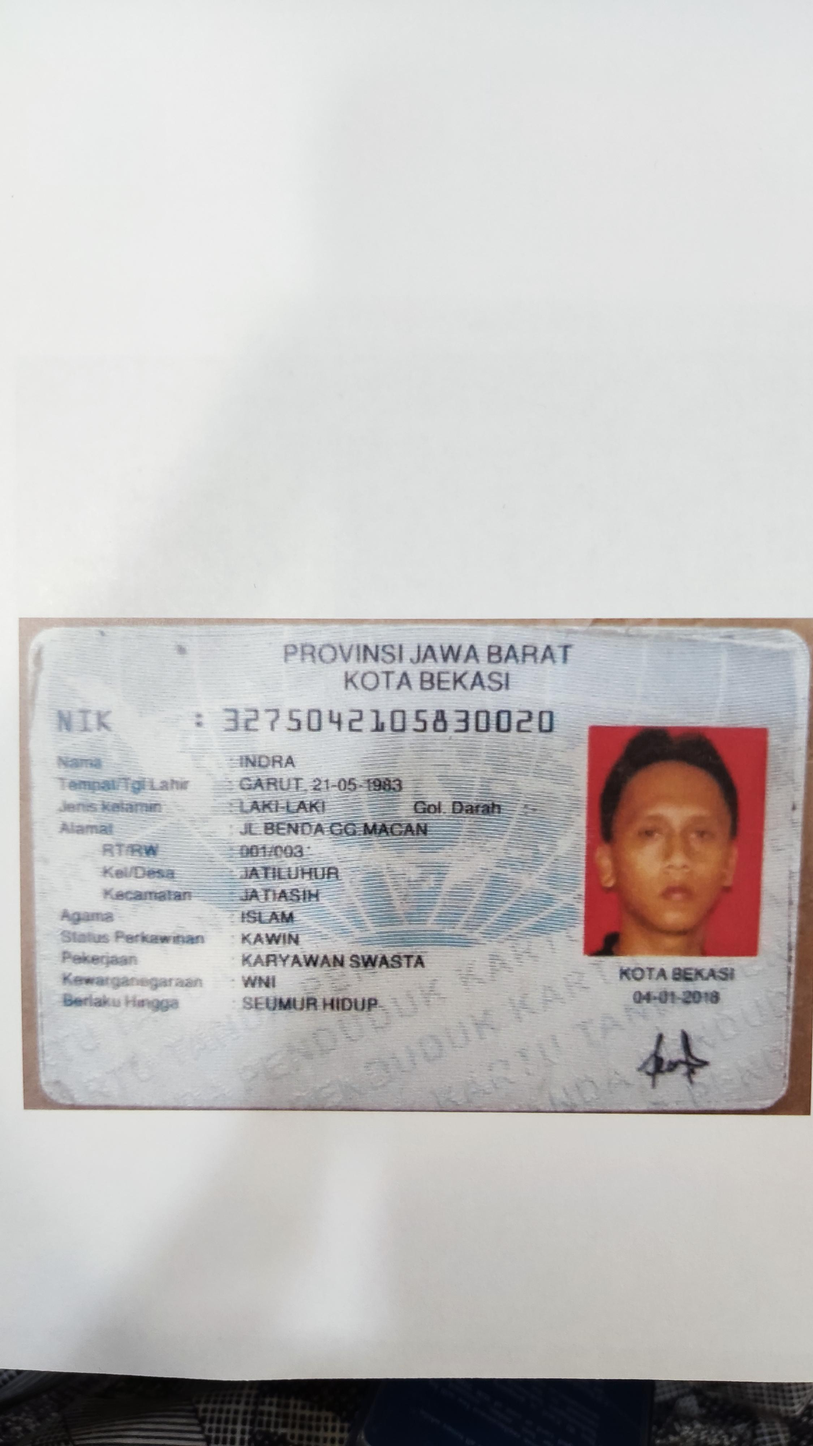ID-card: (25, 622, 792, 1107)
